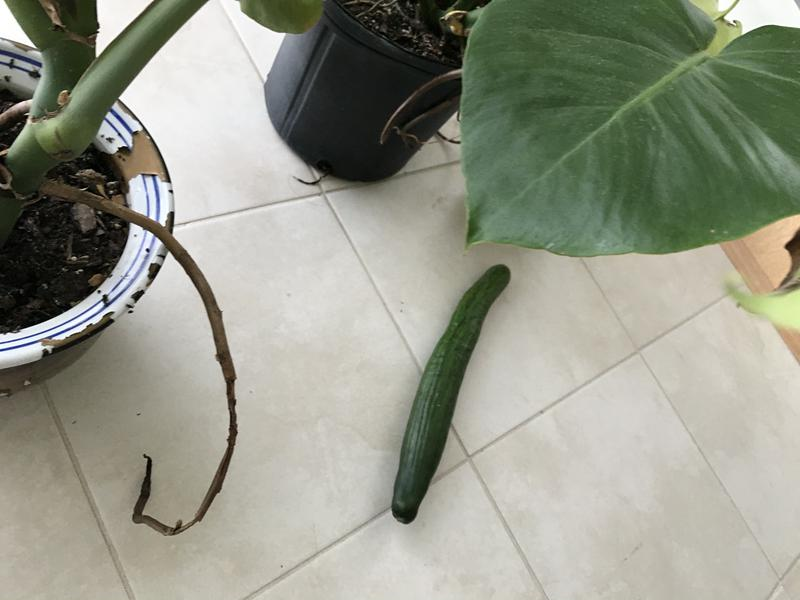cucumber: (376, 255, 519, 538)
